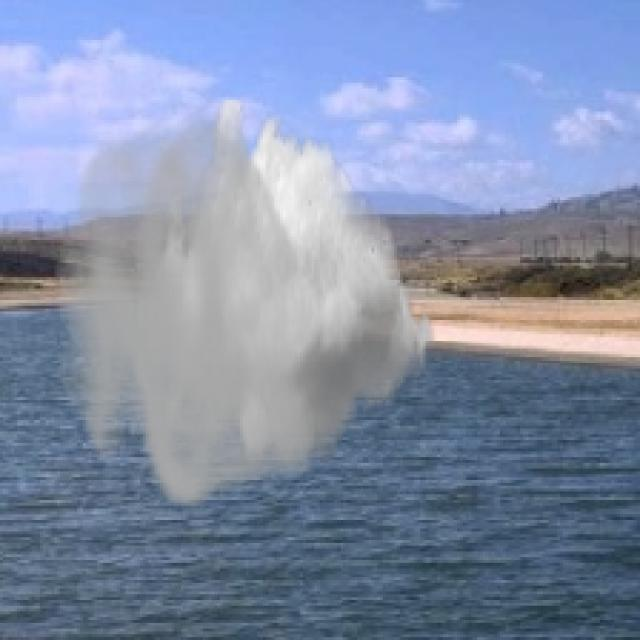smoke: (54, 100, 437, 514)
